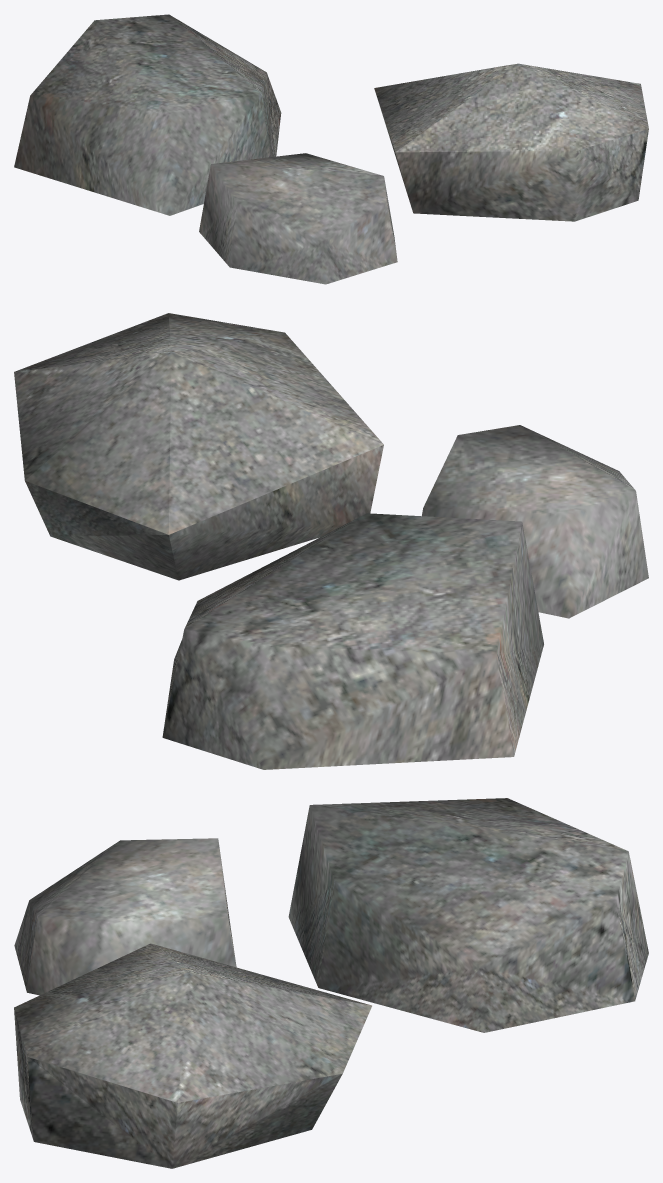
Rendered from rock5.glb.
3 views of the same model, one above another, from view 1: azimuth 30°, elevation 25°; view 2: azimuth 150°, elevation 25°; view 3: azimuth 270°, elevation 25° (orthographic). The views are drawn at different scales.
Parts seen in each view (by area): view 1: rock5; view 2: rock5; view 3: rock5.
Boxes of the visible parts, x1,y1,x2,y2 form: rock5: [14, 14, 648, 284]; rock5: [14, 313, 648, 769]; rock5: [14, 798, 648, 1168].
Size of the model in its own units: 1.83 by 0.3756 by 1.62.
1 material, 1 textured.
